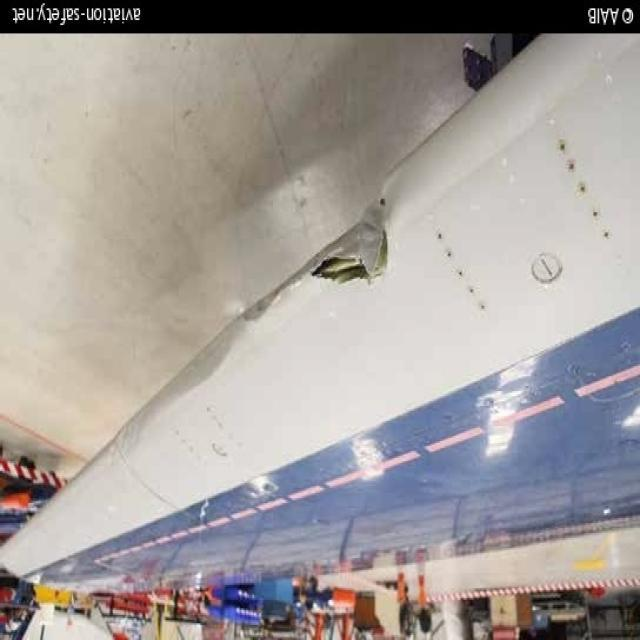crack: (313, 214, 393, 284)
dent: (118, 315, 252, 447)
